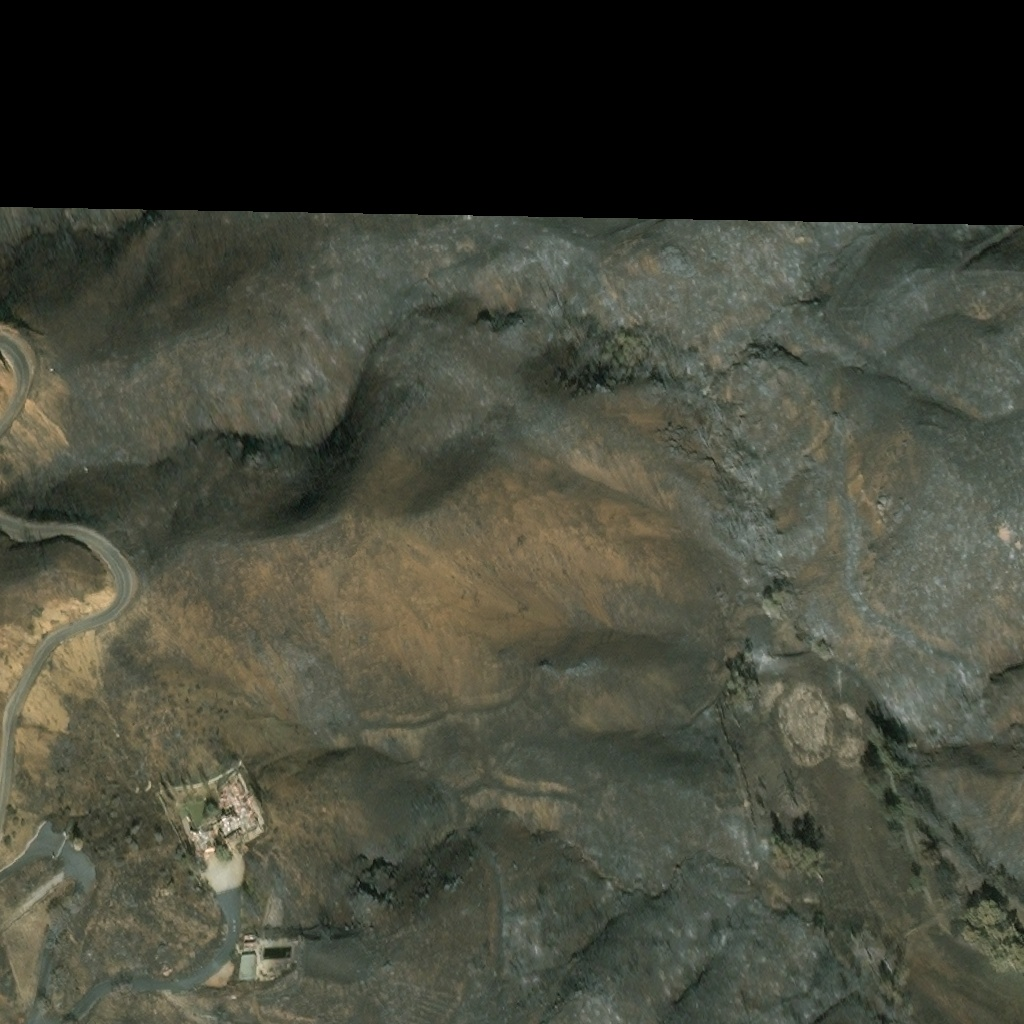1 minor-damage: (239, 955, 255, 979)
2 major-damage: (243, 935, 256, 943)
3 destroyed: (214, 780, 262, 846), (192, 822, 217, 856), (265, 901, 284, 922)
